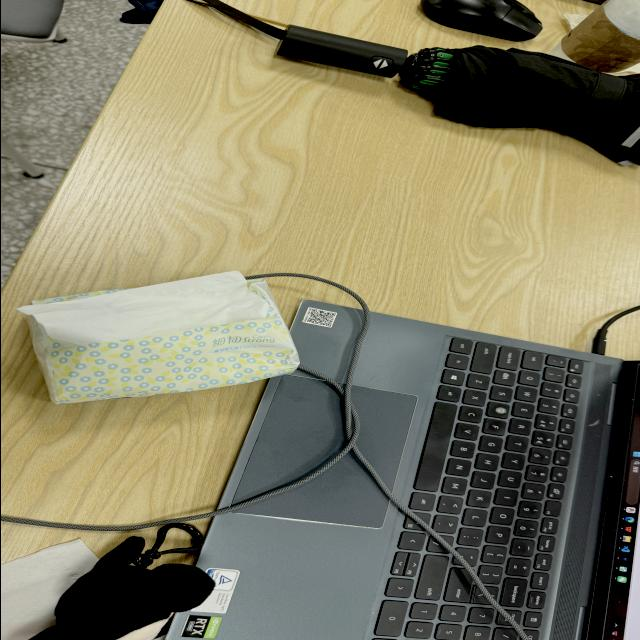mickey: (30, 537, 213, 639)
tissue: (18, 272, 297, 403), (561, 6, 639, 73), (610, 63, 639, 75)
